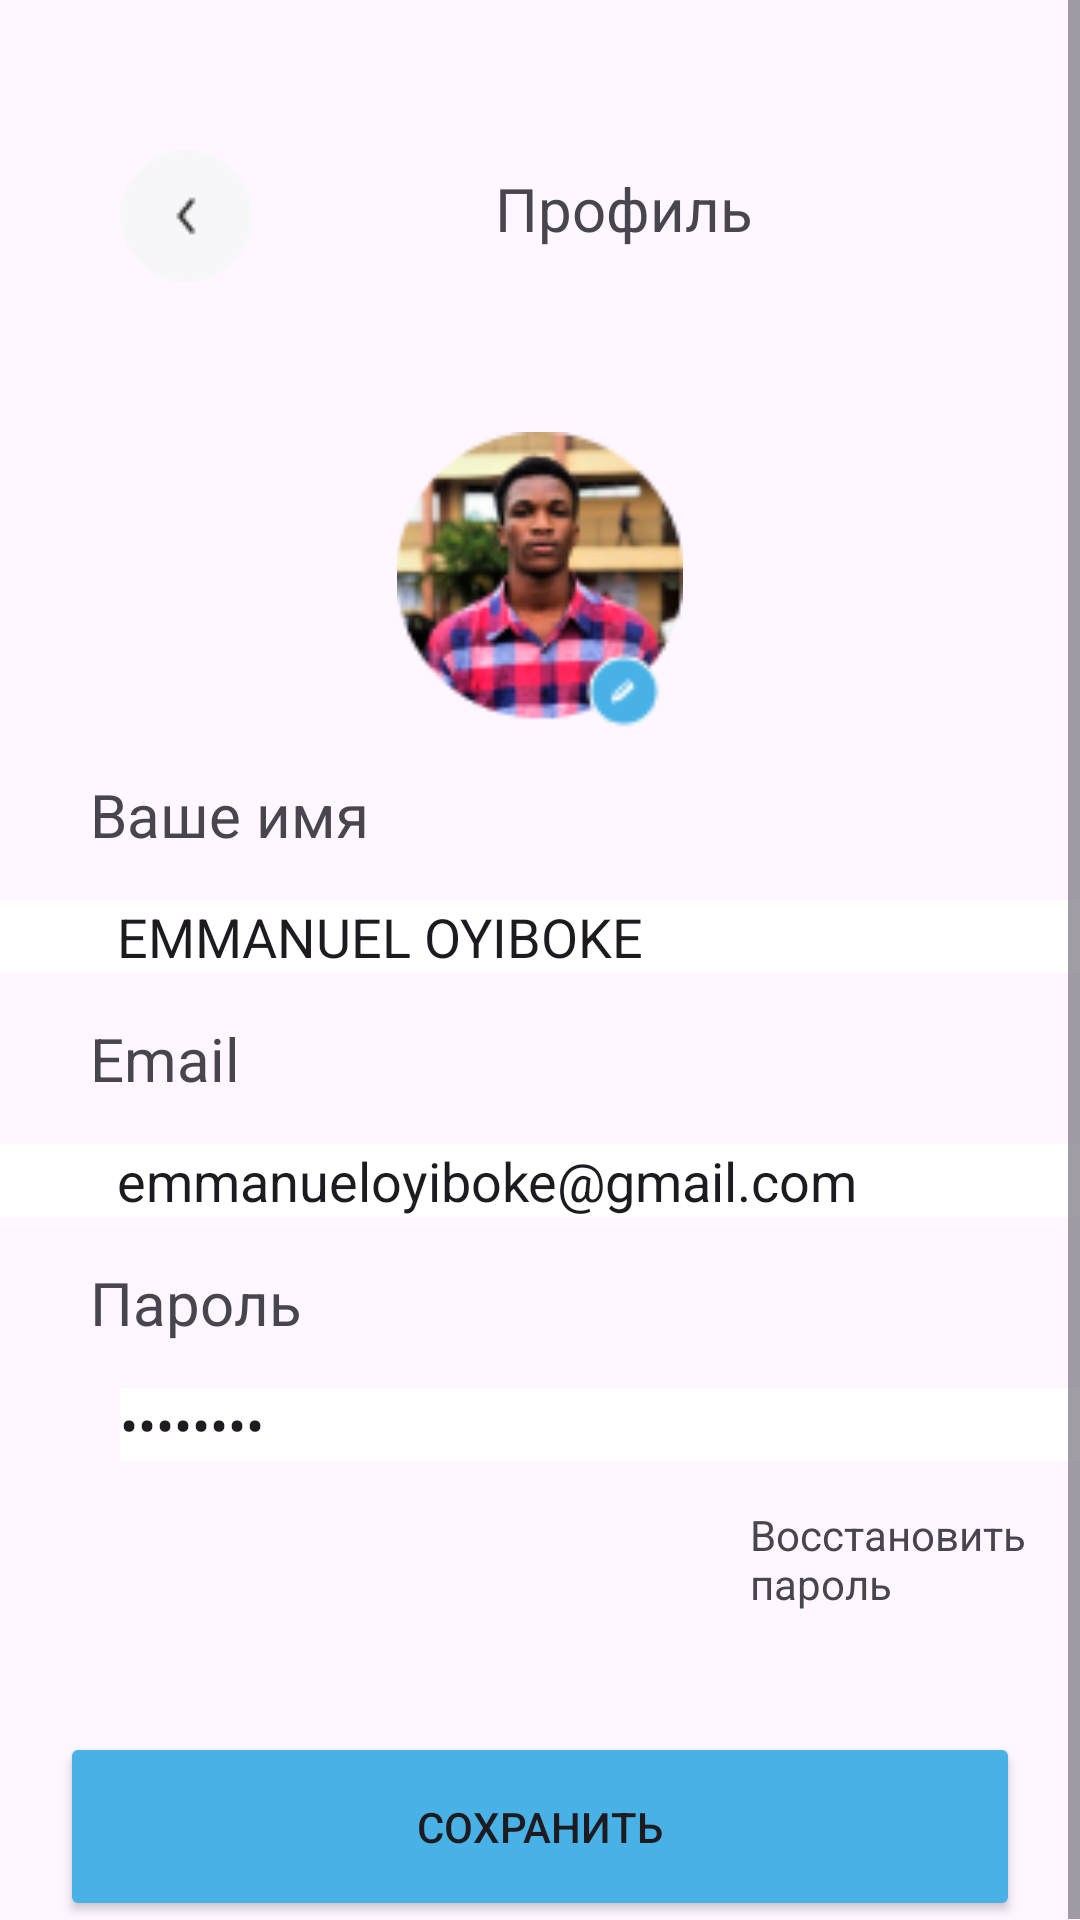

Point at icon controls on the screen. Image size 1080×1920, points as [x,y].
back: [186,216]
lico: [540,579]
